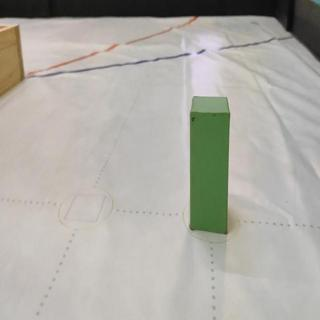greenbox: (189, 93, 230, 233)
